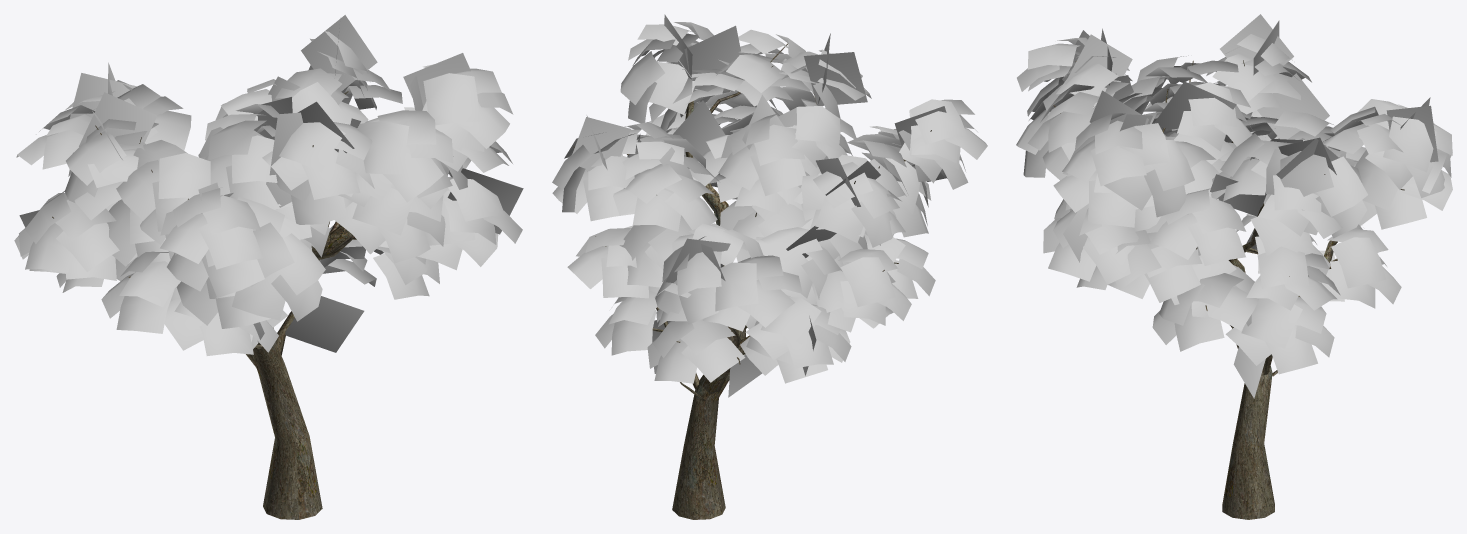
Rendered from Tree_Type6.obj.
3 renders of one model, left to right at view 1: azimuth 30°, elevation 25°; view 2: azimuth 150°, elevation 25°; view 3: azimuth 270°, elevation 25°, orthographic. The views are drawn at different scales.
Visible parts, largest first — view 1: polySurface2937, polySurface2934; view 2: polySurface2937, polySurface2934; view 3: polySurface2937, polySurface2934.
Part boxes in pixels (left/top/right/bottom): polySurface2937: left=14, top=15, right=523, bottom=355; polySurface2934: left=52, top=91, right=356, bottom=519; polySurface2937: left=552, top=14, right=987, bottom=397; polySurface2934: left=573, top=43, right=931, bottom=519; polySurface2937: left=1016, top=14, right=1452, bottom=398; polySurface2934: left=1053, top=60, right=1404, bottom=519.
Bounding box in the file's own units: 8.46 × 9.91 × 8.79.
